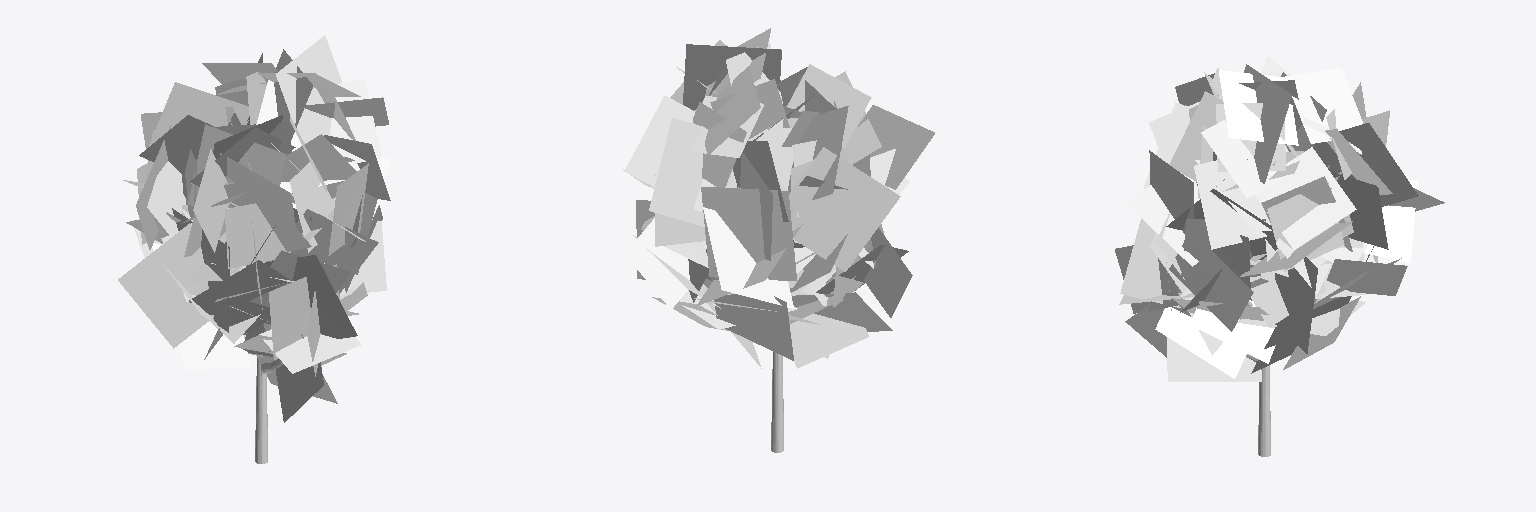
Rendered from Ficus_Model_0.obj.
The picture shows the model from 3 angles: view 1: azimuth 30°, elevation 25°; view 2: azimuth 150°, elevation 25°; view 3: azimuth 270°, elevation 25°; orthographic projection.
Visible parts, largest first — view 1: Foliage__leafcard, Bark; view 2: Foliage__leafcard, Bark; view 3: Foliage__leafcard, Bark.
Part boxes in pixels (bbox=[...]): Foliage__leafcard: bbox=[118, 36, 391, 422]; Bark: bbox=[255, 358, 282, 463]; Foliage__leafcard: bbox=[623, 28, 934, 368]; Bark: bbox=[708, 272, 835, 452]; Foliage__leafcard: bbox=[1115, 56, 1444, 381]; Bark: bbox=[1246, 165, 1329, 456].
Bounding box in the file's own units: 2.23 × 3 × 2.26.